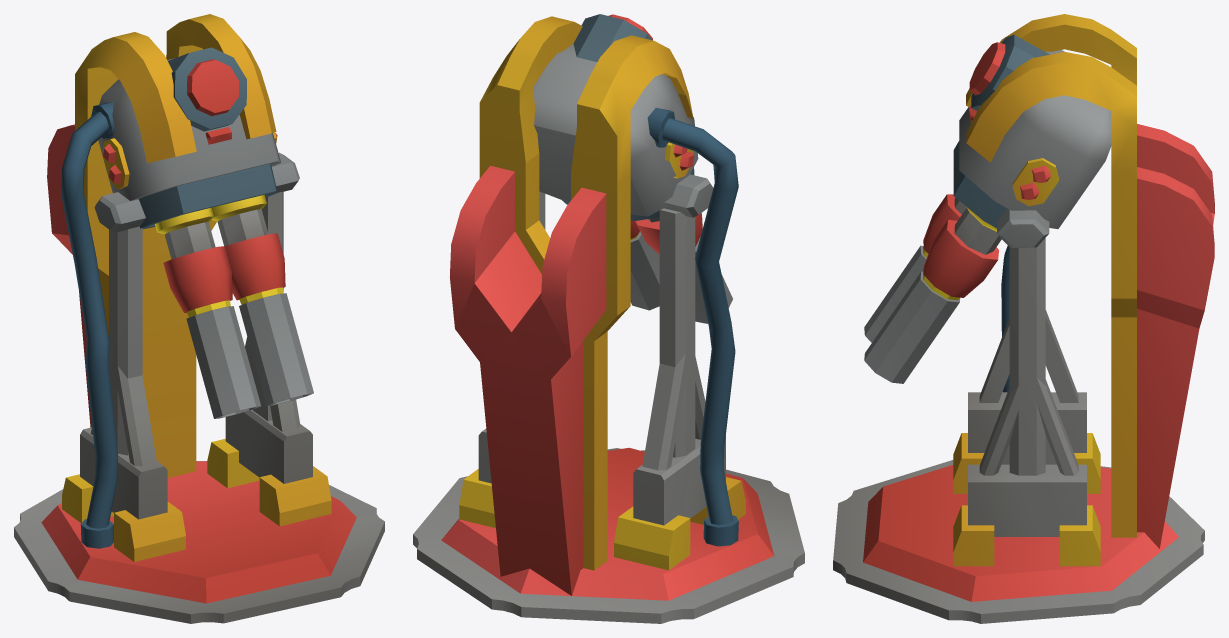
The model's file is Gun Construction.fbx.
3 renders of one model, left to right at view 1: azimuth 30°, elevation 25°; view 2: azimuth 150°, elevation 25°; view 3: azimuth 270°, elevation 25°, orthographic. The views are drawn at different scales.
Parts seen in each view (by area): view 1: Gun_construction; view 2: Gun_construction; view 3: Gun_construction.
Boxes of the visible parts, box(x1,y1,x2,y2) form: Gun_construction: box(14, 14, 384, 623); Gun_construction: box(413, 14, 804, 623); Gun_construction: box(833, 14, 1214, 623).
Size of the model in its own units: 318 by 469 by 321.
